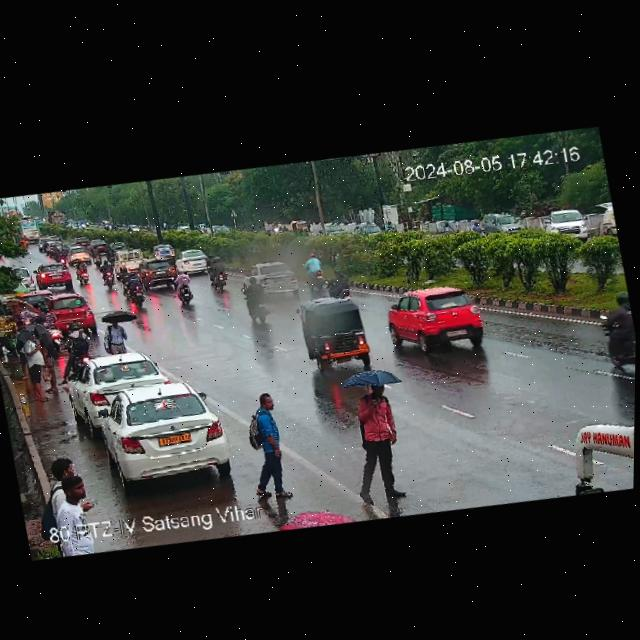bus: (555, 397, 635, 499), (269, 217, 313, 242), (18, 216, 41, 245)
car: (85, 366, 235, 500), (382, 277, 495, 363), (65, 344, 166, 424), (297, 290, 375, 373), (239, 254, 300, 305), (45, 289, 97, 333), (543, 204, 591, 246), (34, 256, 77, 293), (337, 218, 389, 247), (173, 247, 218, 279), (138, 254, 182, 286), (481, 207, 525, 238), (109, 246, 147, 274), (315, 217, 345, 239), (65, 243, 93, 265), (14, 263, 36, 290), (152, 242, 183, 261), (87, 237, 111, 254), (37, 235, 56, 253)
motorcycle: (588, 293, 636, 379), (35, 448, 85, 518), (237, 270, 275, 326), (204, 257, 237, 292), (168, 269, 197, 306), (121, 273, 151, 308), (304, 250, 329, 288), (97, 260, 121, 290), (73, 261, 94, 287), (470, 218, 487, 236), (385, 218, 401, 234), (443, 220, 457, 235)
person: (335, 365, 413, 511), (236, 388, 296, 506), (43, 473, 104, 561), (10, 318, 66, 409), (59, 321, 98, 380), (97, 313, 132, 360)
